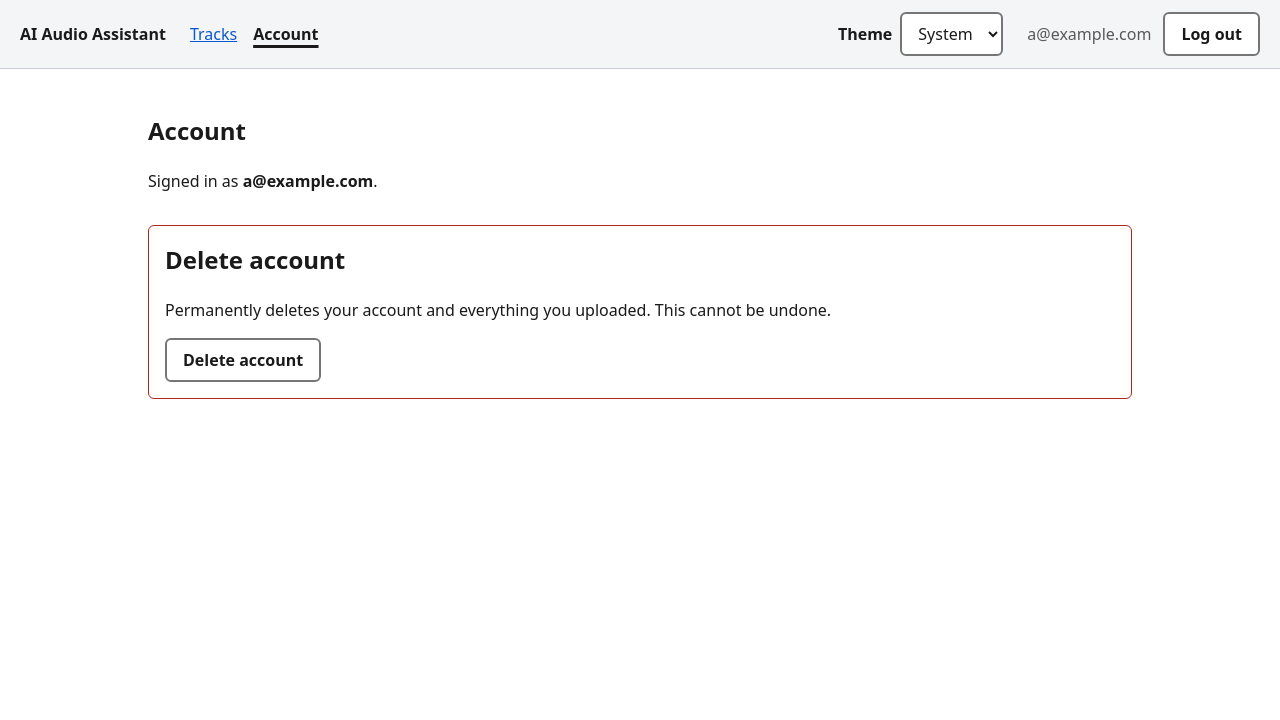
AccountPage › explains a rate limit with the wait time
The image size is (1280, 720).
Check: the heading "Account" is shown, box 148,114 -> 246,147
Click the button "Delete account": (243, 360) 165,338 -> 321,382
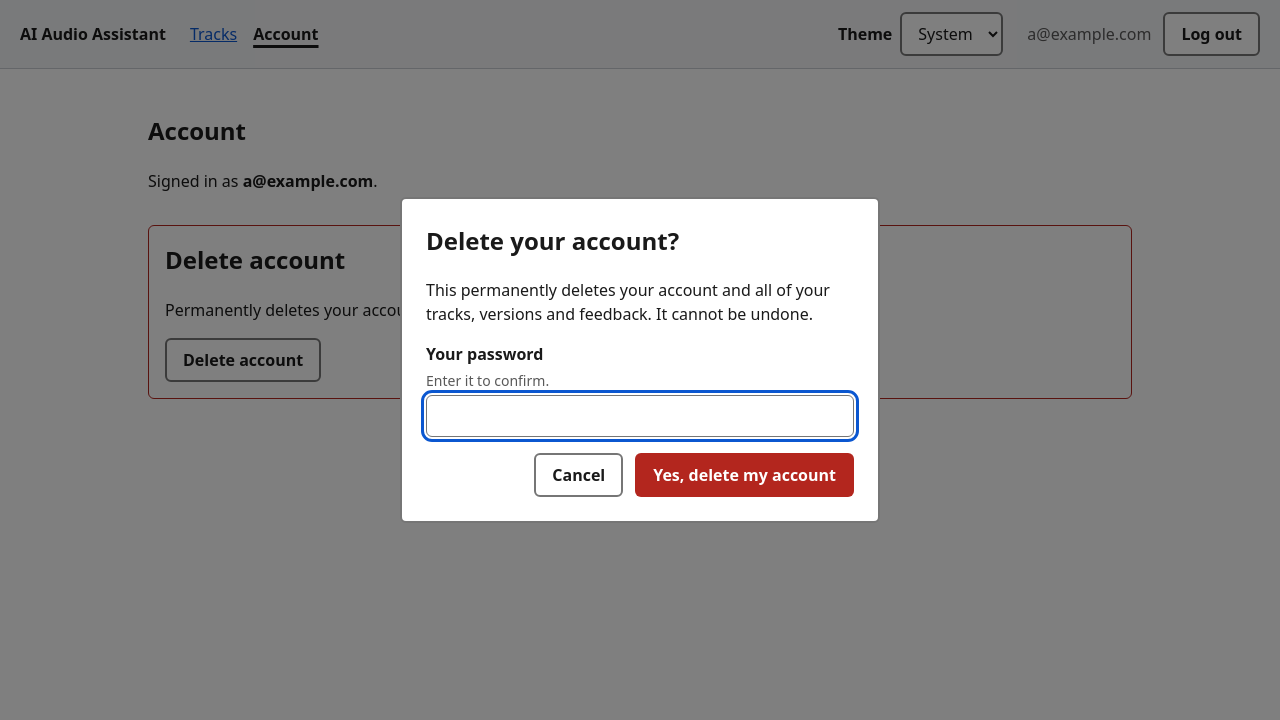
In the password field labelled "Your password": (640, 416) 426,396 -> 854,438, type "secret-pass"
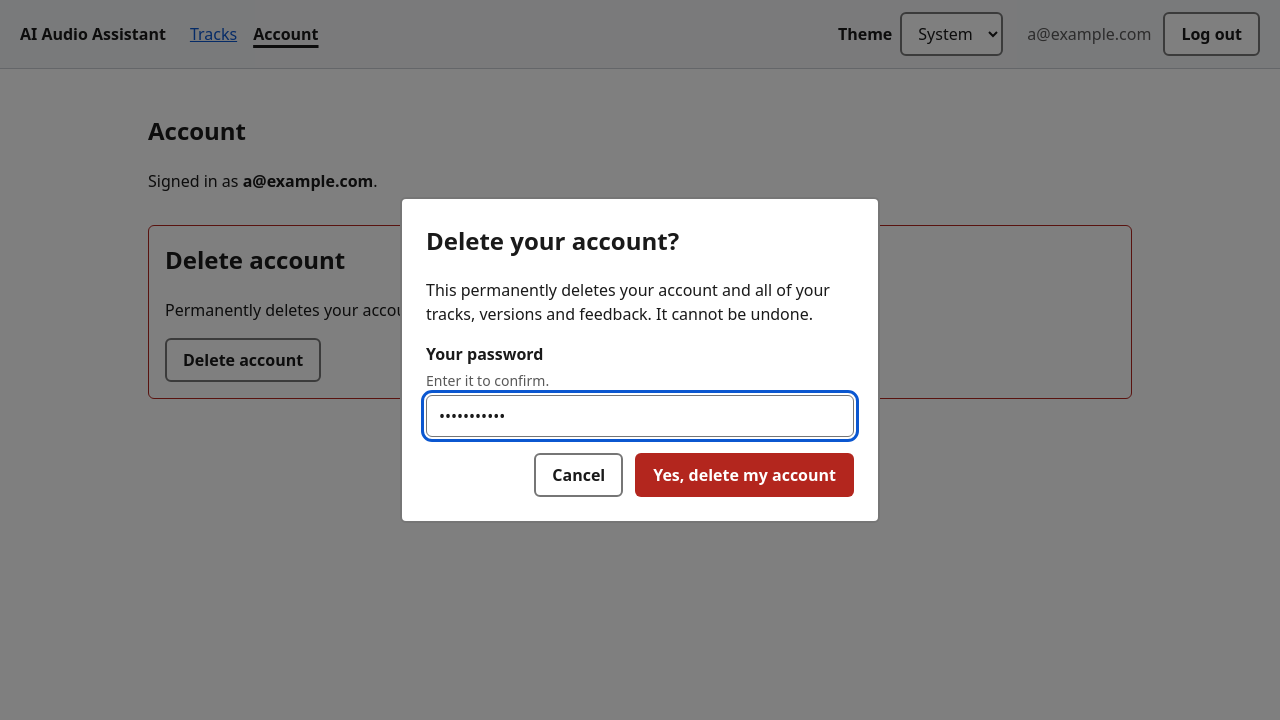
Click the button "Yes, delete my account": (745, 476) 635,454 -> 854,498
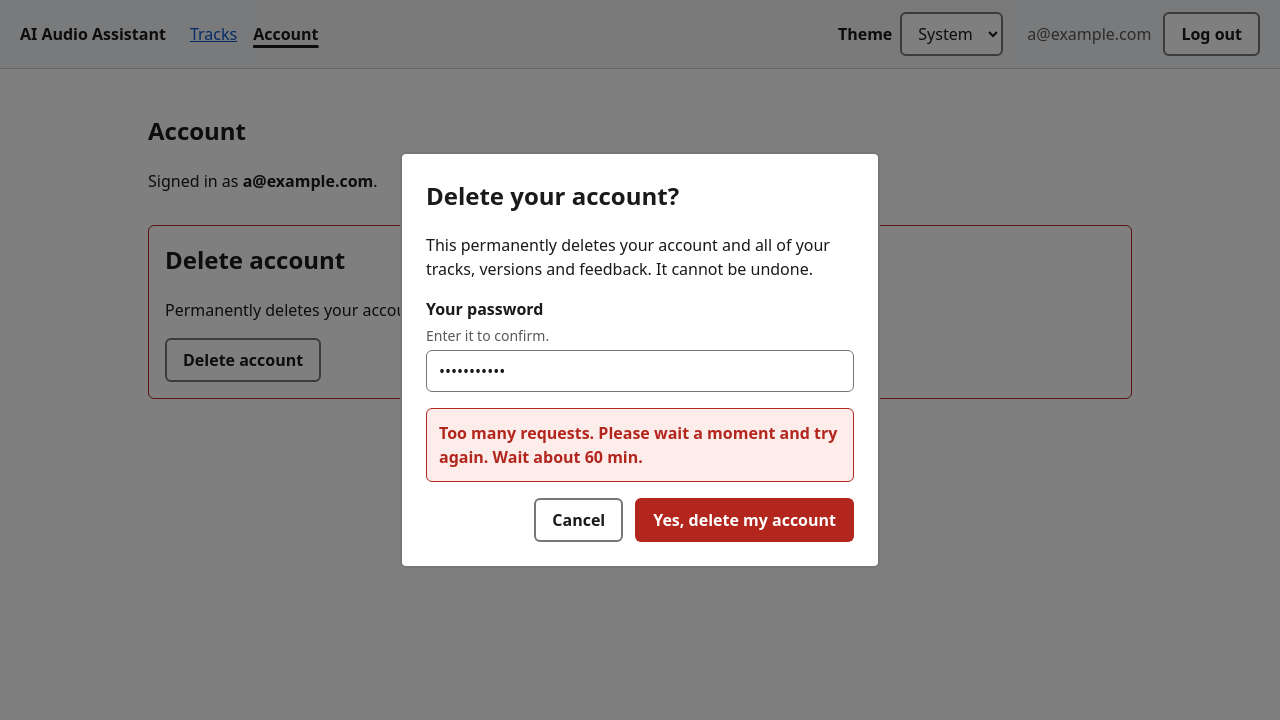
Check: the message shows "Too many requests.", box 439,422 -> 837,468
Check: the message shows "Wait about 60 min.", box 439,422 -> 837,468
